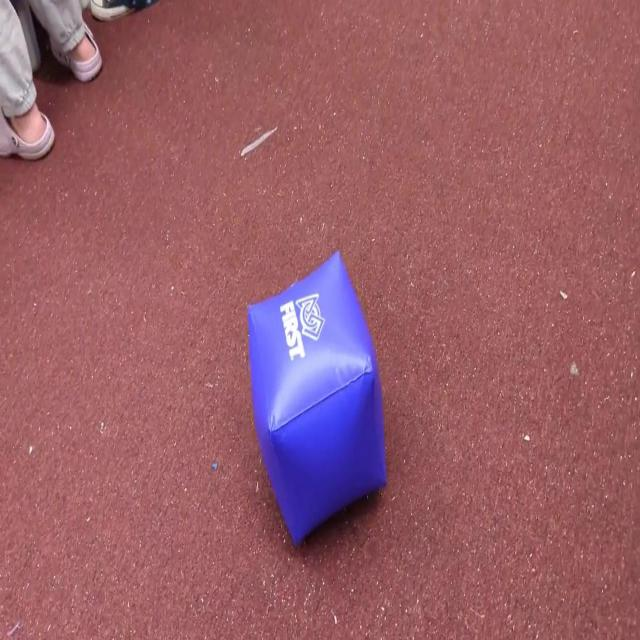frc_cube: (244, 255, 384, 557)
